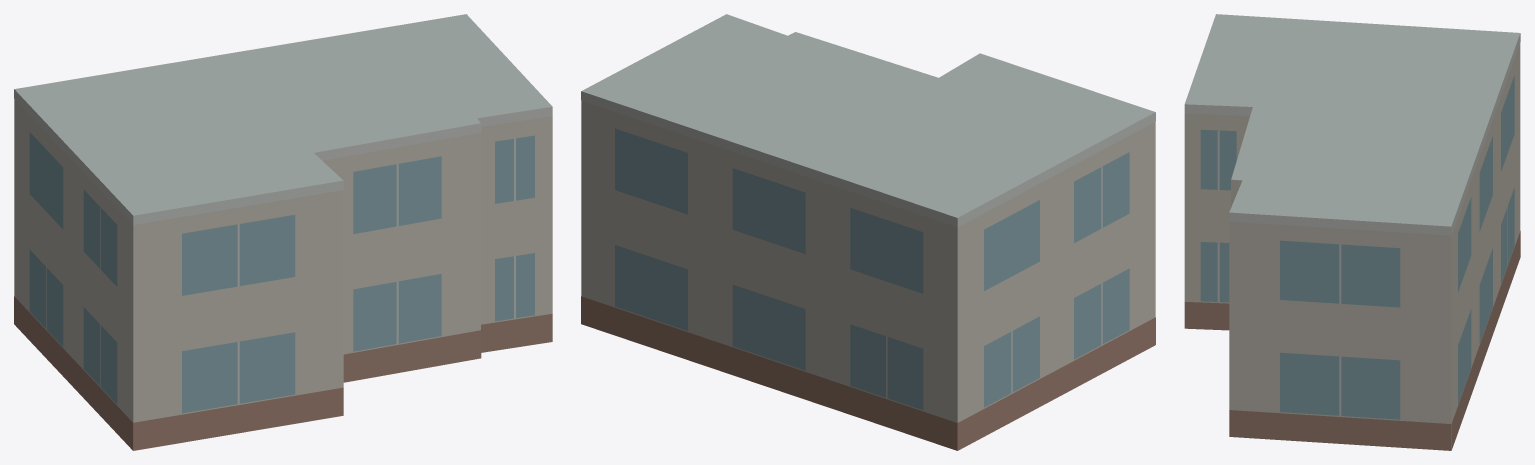
Rendered from survey-upis-32758821.glb.
The picture shows the model from 3 angles, left to right: view 1: azimuth 30°, elevation 25°; view 2: azimuth 150°, elevation 25°; view 3: azimuth 270°, elevation 25°; orthographic projection. The views are drawn at different scales.
Parts seen in each view (by area): view 1: survey-upis-32758821.tmp; view 2: survey-upis-32758821.tmp; view 3: survey-upis-32758821.tmp.
Part boxes in pixels (left/top/right/bottom): survey-upis-32758821.tmp: left=14, top=14, right=552, bottom=450; survey-upis-32758821.tmp: left=581, top=14, right=1155, bottom=450; survey-upis-32758821.tmp: left=1184, top=14, right=1520, bottom=450.
Size of the model in its own units: 12.41 by 6.1 by 8.29.
